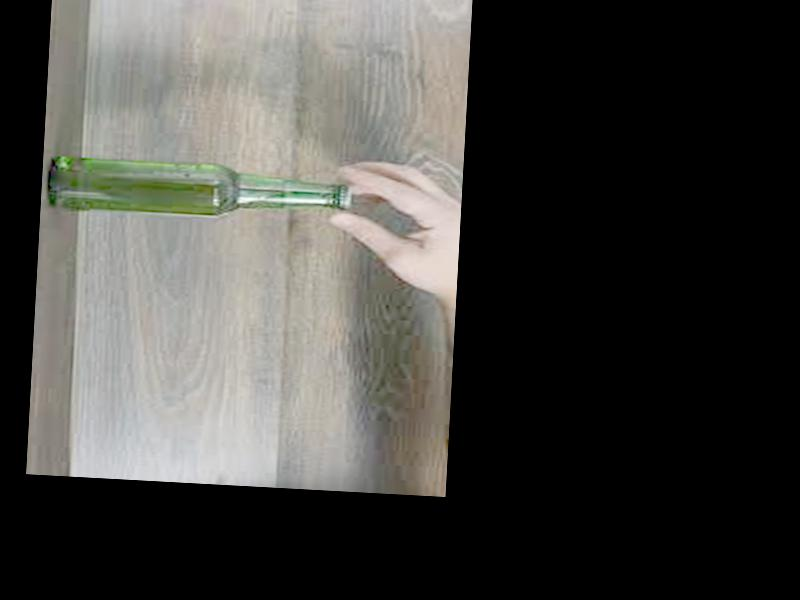Beer: (47, 155, 354, 226)
